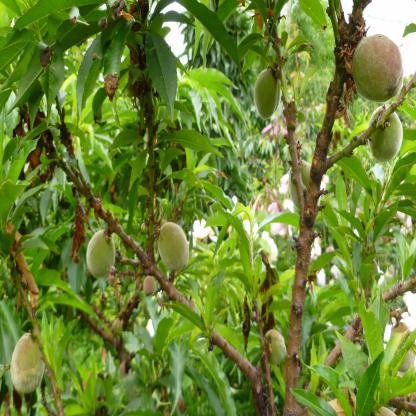peach leaf: (184, 0, 244, 78), (147, 31, 178, 122), (302, 361, 351, 416), (359, 289, 386, 376), (354, 353, 385, 416), (167, 334, 189, 416), (288, 387, 335, 416), (159, 131, 224, 151)
